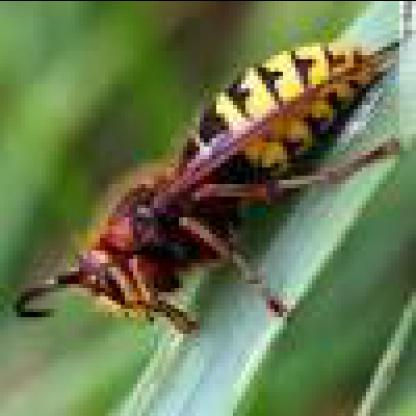european: (13, 29, 395, 345)
